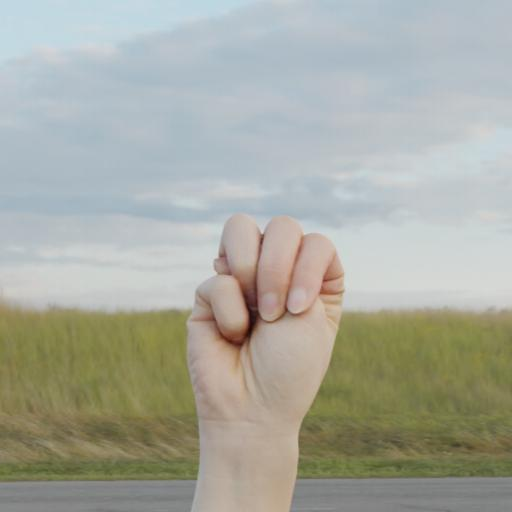M: (166, 168, 414, 488)
